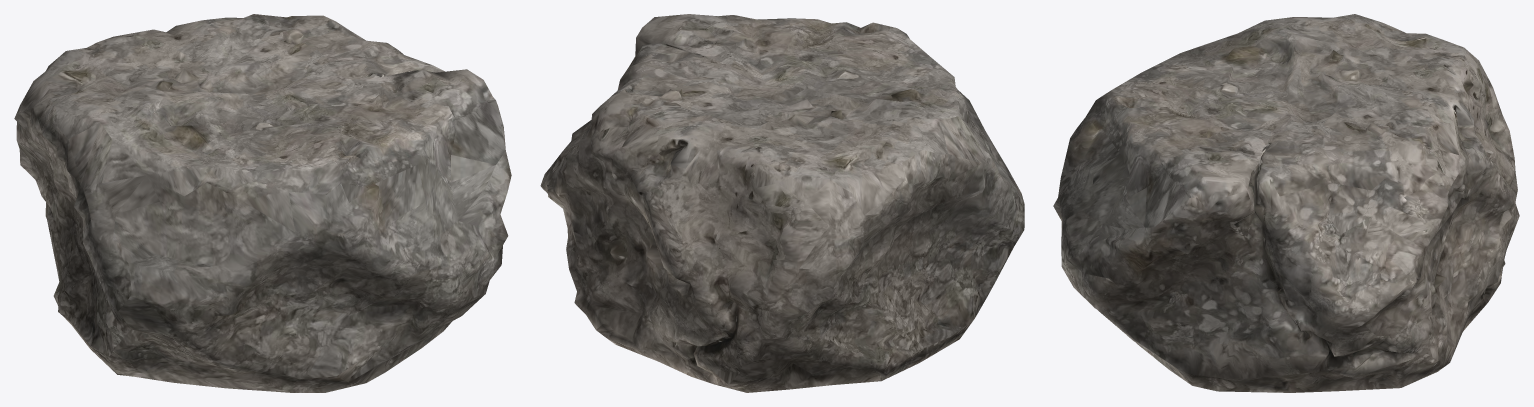
Rendered from boulder_d_lod1.glb.
3 views of the same model, side by side, from view 1: azimuth 30°, elevation 25°; view 2: azimuth 150°, elevation 25°; view 3: azimuth 270°, elevation 25° (orthographic). The views are drawn at different scales.
Parts seen in each view (by area): view 1: boulder_d_lod1; view 2: boulder_d_lod1; view 3: boulder_d_lod1.
Boxes of the visible parts, x1,y1,x2,y2 form: boulder_d_lod1: (14,14,511,392); boulder_d_lod1: (540,14,1024,392); boulder_d_lod1: (1053,14,1519,392).
Size of the model in its own units: 4.51 by 2.6 by 4.56.
1 material, 1 textured.
